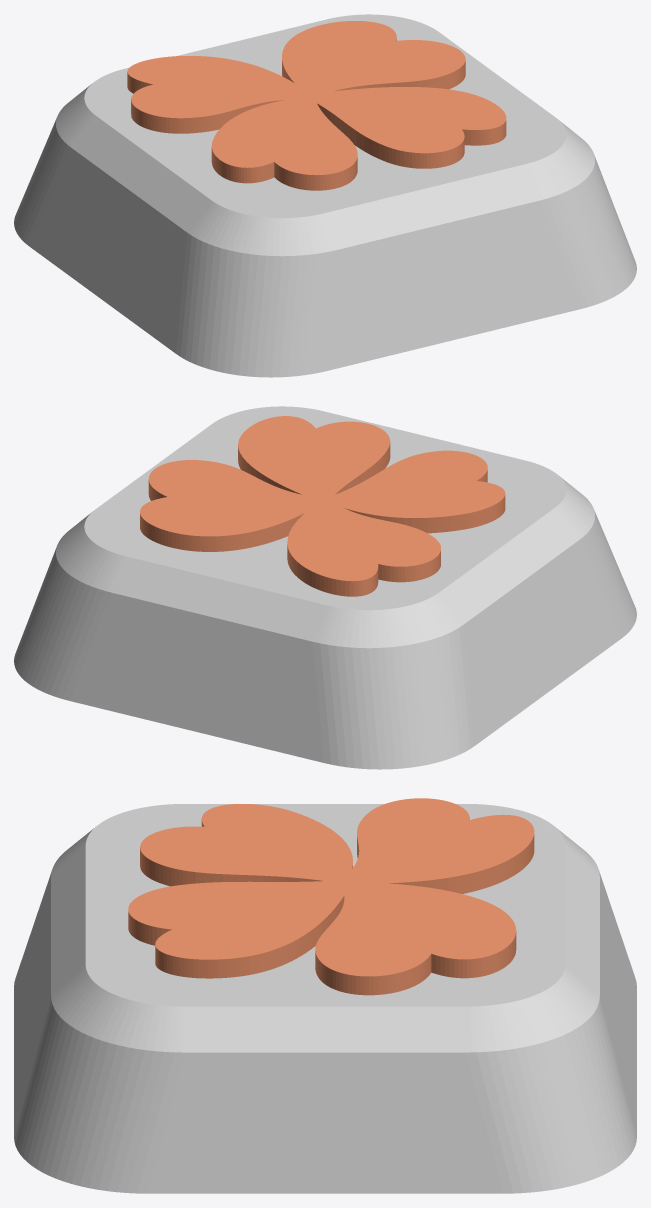
Rendered from cap-clover.glb.
3 renders of one model, top to bottom at view 1: azimuth 30°, elevation 25°; view 2: azimuth 150°, elevation 25°; view 3: azimuth 270°, elevation 25°, orthographic. The views are drawn at different scales.
Parts seen in each view (by area): view 1: cap_0, glyph_1; view 2: cap_0, glyph_1; view 3: cap_0, glyph_1.
Boxes of the visible parts, bbox=[...] form: cap_0: bbox=[14, 14, 636, 377]; glyph_1: bbox=[127, 21, 506, 190]; cap_0: bbox=[14, 406, 636, 769]; glyph_1: bbox=[140, 416, 505, 596]; cap_0: bbox=[14, 804, 636, 1193]; glyph_1: bbox=[128, 798, 534, 995].
Size of the model in its own units: 18 by 5.6 by 18.
